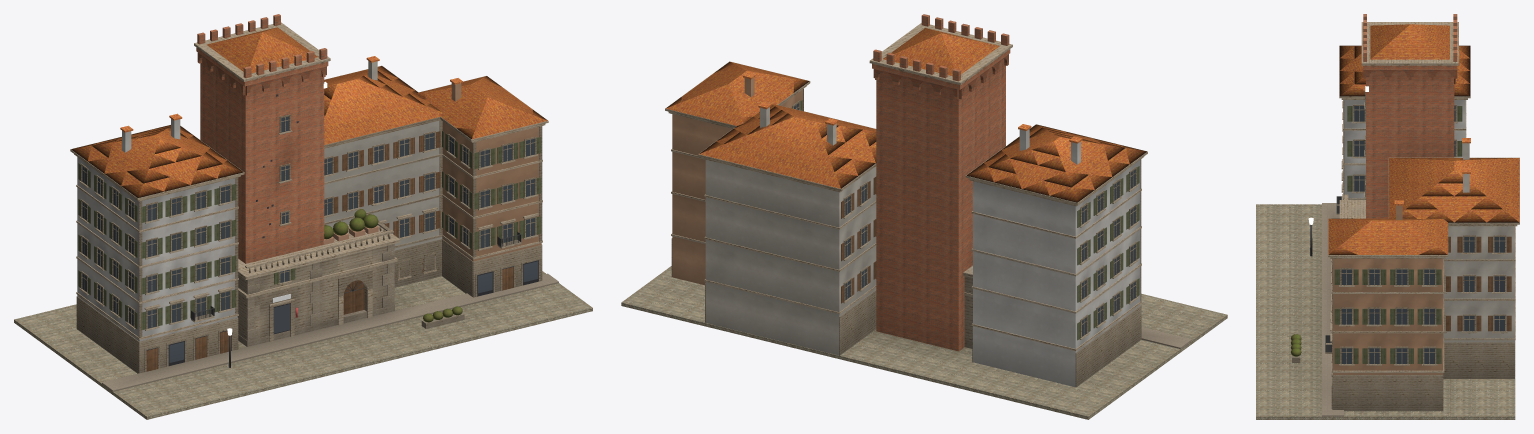
File: tower.gltf
3 renders of one model, left to right at view 1: azimuth 30°, elevation 25°; view 2: azimuth 150°, elevation 25°; view 3: azimuth 270°, elevation 25°, orthographic. The views are drawn at different scales.
Parts seen in each view (by area): view 1: tower-travertine-trim, tower-plaster, tower-sampietrini, tower-medieval-brick, tower-roof-tiles, tower-shutters, tower-window-glass, tower-rustication, tower-pavement, tower-tower-stone, tower-quoin-stone, tower-door-wood (+3 smaller); view 2: tower-plaster, tower-medieval-brick, tower-roof-tiles, tower-sampietrini, tower-travertine-trim, tower-rustication, tower-shutters, tower-window-glass, tower-pavement, tower-tower-stone; view 3: tower-sampietrini, tower-roof-tiles, tower-plaster, tower-medieval-brick, tower-travertine-trim, tower-rustication, tower-shutters, tower-window-glass, tower-pavement, tower-wrought-iron.
Boxes of the visible parts, x1,y1,x2,y2 form: tower-travertine-trim: (70, 22, 548, 372); tower-plaster: (77, 61, 541, 341); tower-sampietrini: (14, 271, 592, 419); tower-medieval-brick: (196, 14, 328, 263); tower-roof-tiles: (71, 27, 547, 197); tower-shutters: (78, 130, 541, 330); tower-window-glass: (82, 116, 538, 362); tower-rustication: (76, 239, 542, 373); tower-pavement: (102, 273, 558, 391); tower-tower-stone: (237, 245, 393, 340); tower-quoin-stone: (238, 244, 464, 346); tower-door-wood: (146, 267, 513, 371); tower-plaster: (672, 77, 1140, 387); tower-medieval-brick: (872, 14, 1010, 351); tower-roof-tiles: (666, 28, 1146, 202); tower-sampietrini: (621, 266, 1227, 419); tower-travertine-trim: (665, 23, 1147, 351); tower-rustication: (671, 238, 1141, 387); tower-shutters: (791, 100, 1139, 340); tower-window-glass: (794, 103, 1135, 336); tower-pavement: (1141, 327, 1192, 348); tower-tower-stone: (964, 276, 972, 342); tower-sampietrini: (1256, 204, 1515, 419); tower-roof-tiles: (1328, 24, 1519, 254); tower-plaster: (1333, 100, 1514, 374); tower-medieval-brick: (1363, 14, 1457, 218); tower-travertine-trim: (1325, 22, 1519, 408); tower-rustication: (1332, 342, 1514, 411); tower-shutters: (1334, 106, 1511, 363); tower-window-glass: (1341, 106, 1504, 363); tower-pavement: (1322, 203, 1343, 416); tower-wrought-iron: (1310, 196, 1341, 352).
Bounding box in the file's own units: 60.1 × 36.35 × 31.55.
Materials: 21 (12 with a texture image).
